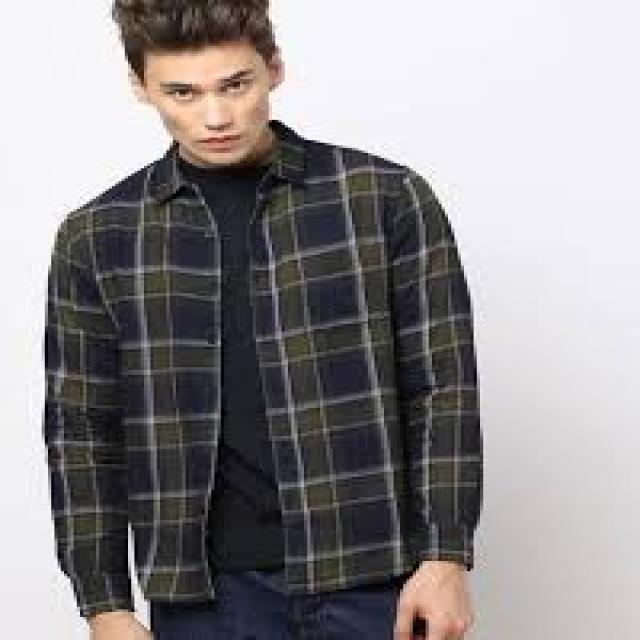plaid: (32, 139, 486, 600)
